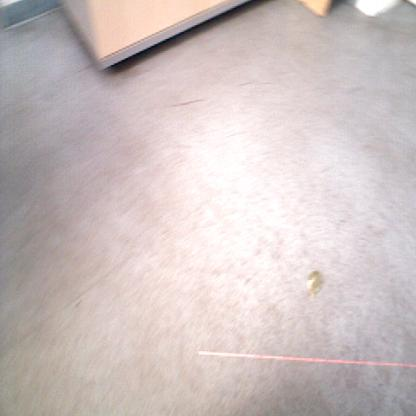dirty: (306, 269, 324, 298)
mark: (171, 98, 206, 108), (237, 80, 252, 88), (74, 297, 82, 308), (339, 218, 347, 226)
